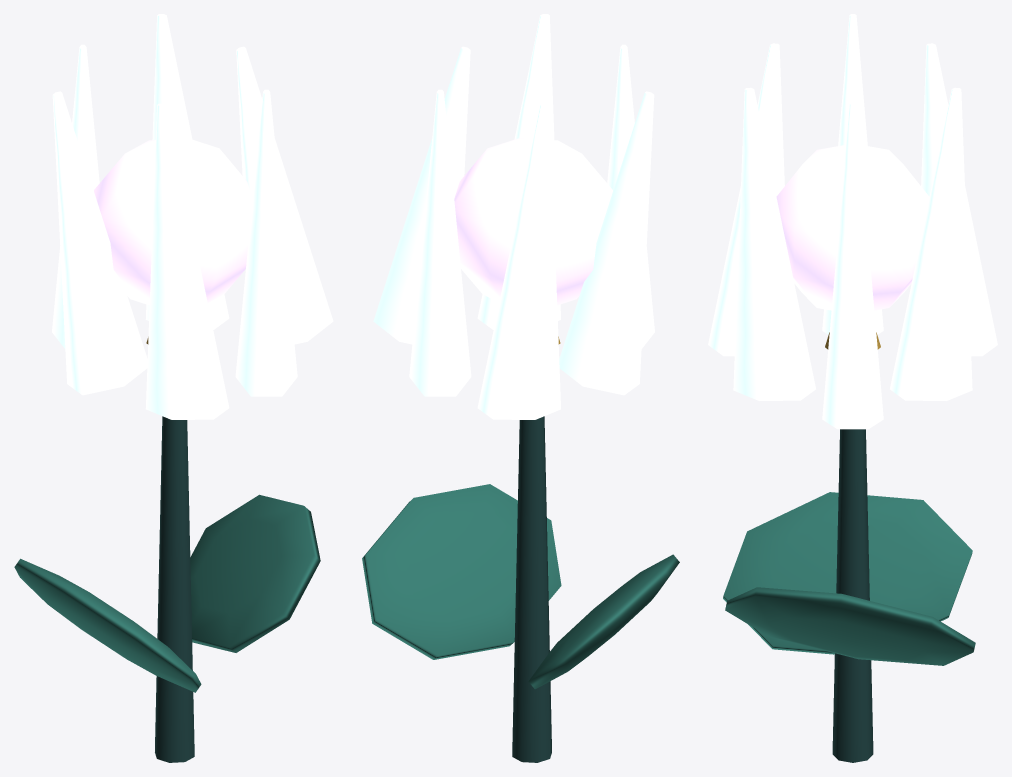
Rendered from AetherBloom_Godot_v2.glb.
3 views of the same model, side by side, from view 1: azimuth 30°, elevation 25°; view 2: azimuth 150°, elevation 25°; view 3: azimuth 270°, elevation 25° (orthographic).
Parts seen in each view (by area): view 1: LeafRight, CrystalPetal3, BloomCore, CrystalPetal4, CrystalPetal2, BloomStem, CrystalPetal1, LeafLeft, CrystalPetal6, CrystalPetal5; view 2: LeafRight, CrystalPetal5, BloomCore, CrystalPetal4, CrystalPetal6, BloomStem, CrystalPetal1, LeafLeft, CrystalPetal2, CrystalPetal3; view 3: LeafLeft, BloomCore, CrystalPetal2, CrystalPetal6, LeafRight, CrystalPetal1, BloomStem, CrystalPetal3, CrystalPetal5, CrystalPetal4.
Boxes of the visible parts, <box> form: LeafRight: <box>190,494,320,652</box>; CrystalPetal3: <box>145,103,229,419</box>; BloomCore: <box>94,138,252,305</box>; CrystalPetal4: <box>52,91,147,395</box>; CrystalPetal2: <box>235,89,297,396</box>; BloomStem: <box>155,416,194,762</box>; CrystalPetal1: <box>236,46,333,344</box>; LeafLeft: <box>14,558,201,692</box>; CrystalPetal6: <box>145,14,229,329</box>; CrystalPetal5: <box>52,44,99,348</box>; LeafRight: <box>362,484,561,659</box>; CrystalPetal5: <box>477,103,560,419</box>; BloomCore: <box>454,138,612,305</box>; CrystalPetal4: <box>559,91,654,395</box>; CrystalPetal6: <box>409,89,471,396</box>; BloomStem: <box>512,416,551,762</box>; CrystalPetal1: <box>373,46,470,344</box>; LeafLeft: <box>528,554,679,689</box>; CrystalPetal2: <box>477,14,560,329</box>; CrystalPetal3: <box>607,44,654,348</box>; LeafLeft: <box>723,492,972,654</box>; BloomCore: <box>776,144,929,310</box>; CrystalPetal2: <box>733,87,815,400</box>; CrystalPetal6: <box>890,87,972,400</box>; LeafRight: <box>725,587,975,665</box>; CrystalPetal1: <box>822,102,883,429</box>; BloomStem: <box>832,429,873,762</box>; CrystalPetal3: <box>708,43,784,356</box>; CrystalPetal5: <box>921,43,997,356</box>; CrystalPetal4: <box>822,14,883,334</box>.
Bounding box in the file's own units: 2.47 × 5.9 × 2.27.
